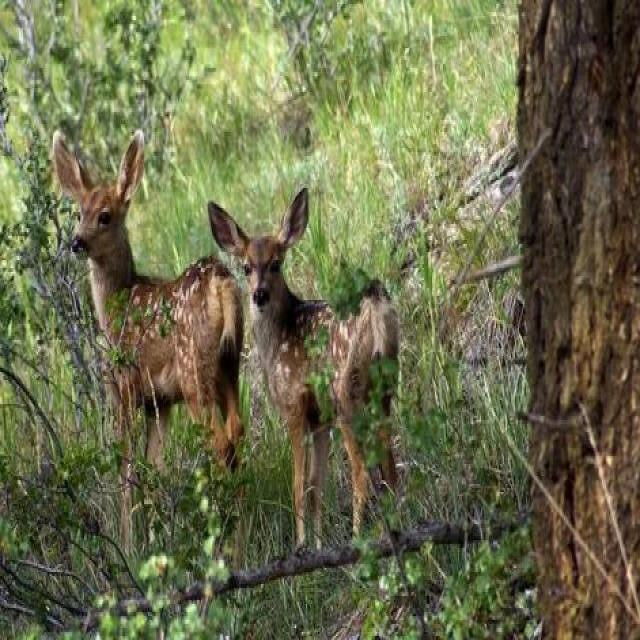deer: (28, 133, 257, 480), (218, 188, 418, 524)
